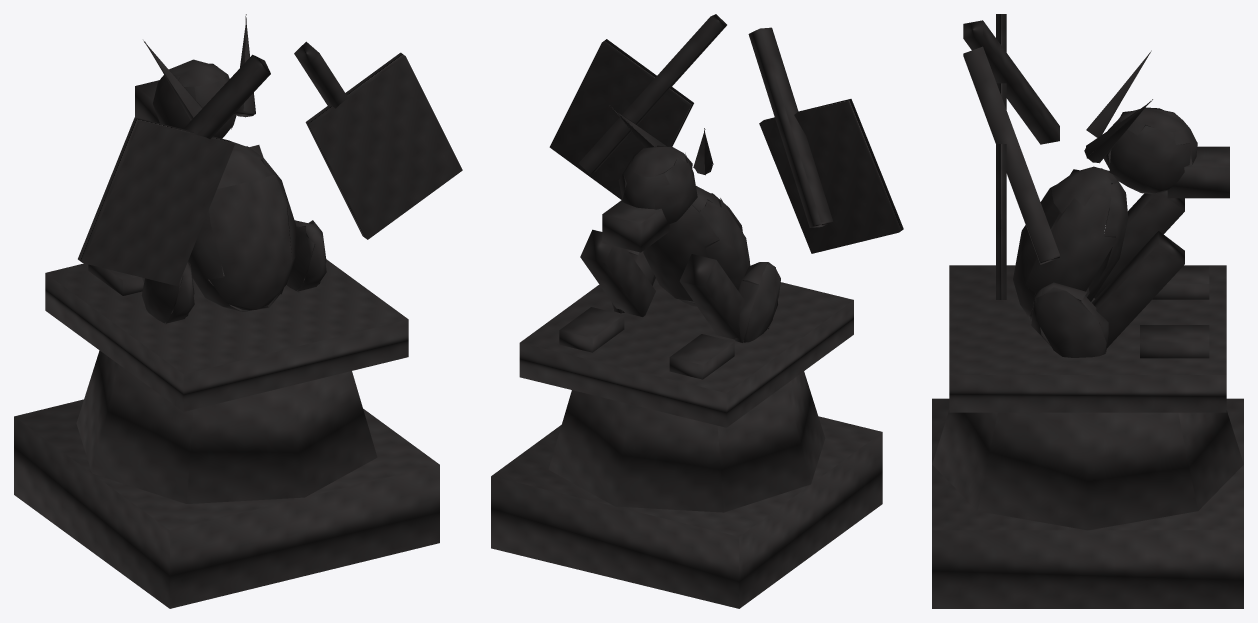
File: Gargoyle_DarkStone_LOD1.glb
The picture shows the model from 3 angles, left to right: view 1: azimuth 30°, elevation 25°; view 2: azimuth 150°, elevation 25°; view 3: azimuth 270°, elevation 25°; orthographic projection. The views are drawn at different scales.
Parts seen in each view (by area): view 1: Gargoyle_DarkStone_LOD1; view 2: Gargoyle_DarkStone_LOD1; view 3: Gargoyle_DarkStone_LOD1.
Boxes of the visible parts, <box> form: Gargoyle_DarkStone_LOD1: <box>14,14,462,608</box>; Gargoyle_DarkStone_LOD1: <box>491,14,903,608</box>; Gargoyle_DarkStone_LOD1: <box>932,14,1243,608</box>.
Bounding box in the file's own units: 1.27 × 1.62 × 0.9.
1 material, 1 textured.
